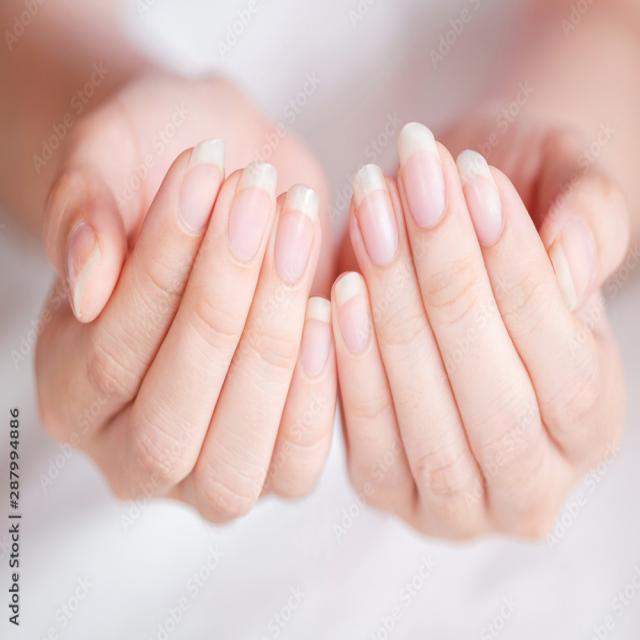Fingernail: (398, 123, 446, 230), (550, 214, 600, 313), (227, 162, 276, 263), (353, 164, 399, 267), (457, 151, 504, 249), (177, 142, 224, 232), (276, 188, 318, 284), (66, 226, 99, 318), (334, 273, 371, 353), (300, 297, 331, 382)
